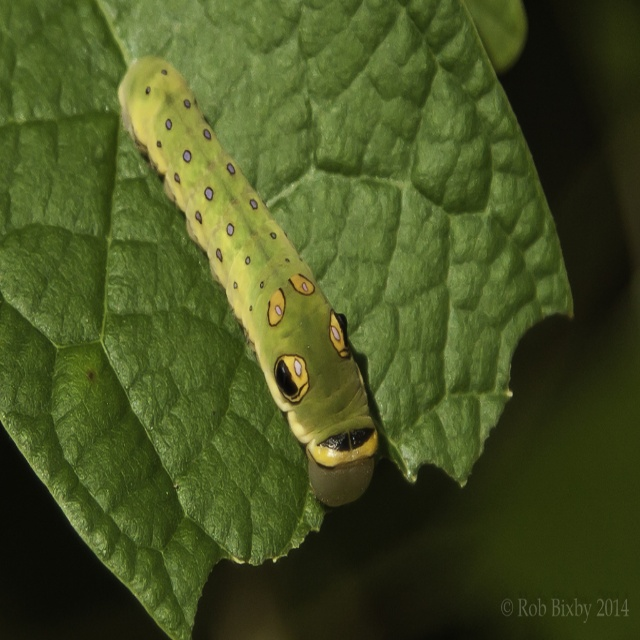Caterpillar: (115, 55, 379, 508)
